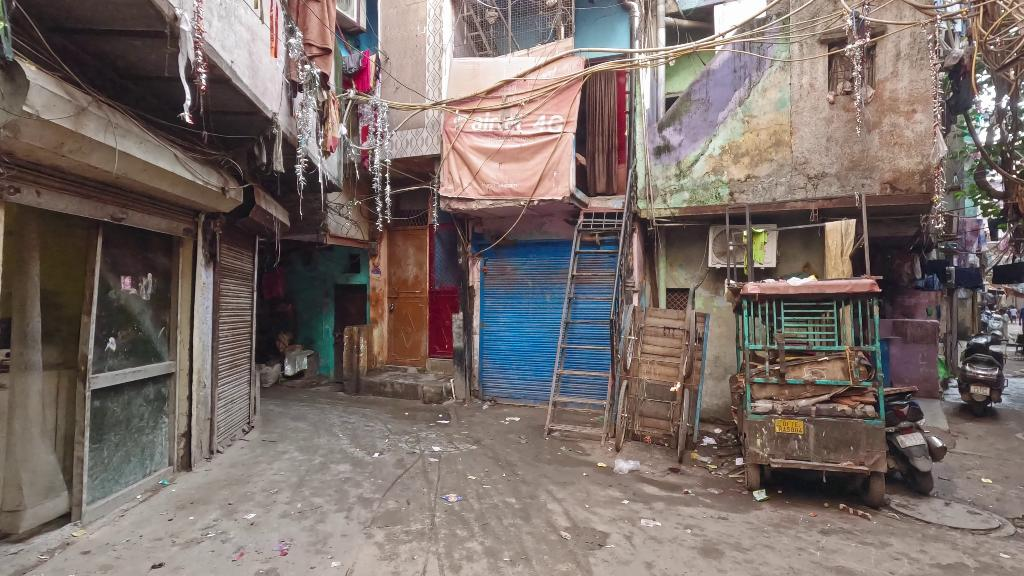garbage: (613, 457, 641, 476), (753, 488, 772, 502), (441, 494, 464, 503), (701, 436, 717, 445)
